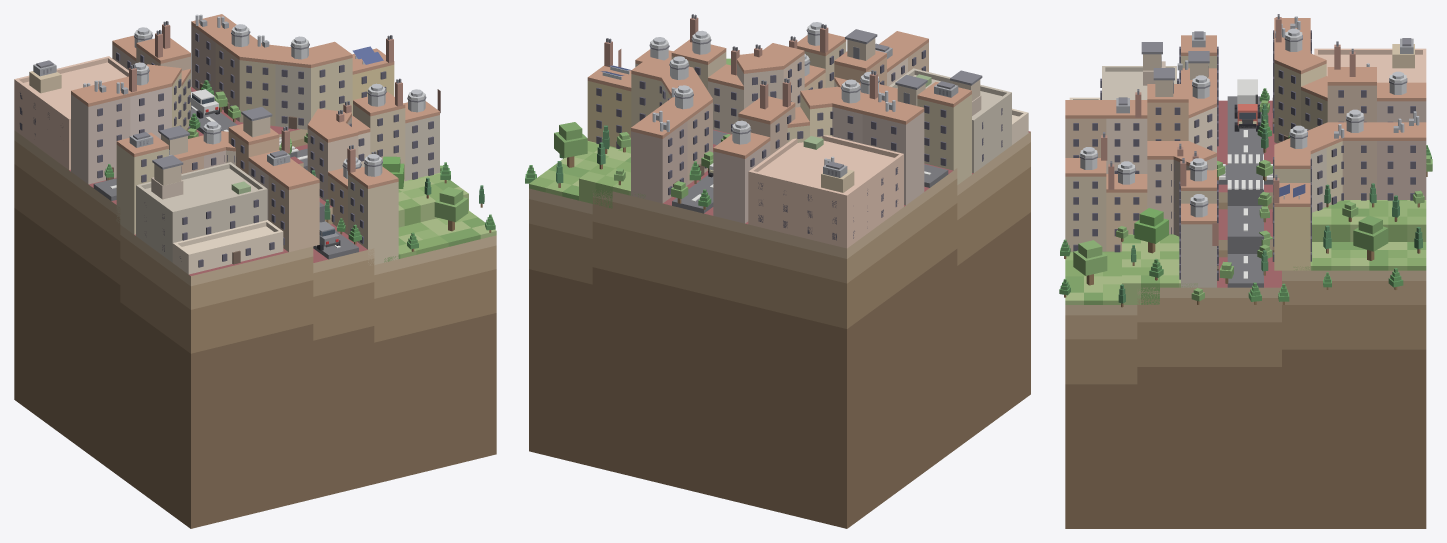
Rendered from block_18_base.glb.
The picture shows the model from 3 angles, left to right: view 1: azimuth 30°, elevation 25°; view 2: azimuth 150°, elevation 25°; view 3: azimuth 270°, elevation 25°; orthographic projection. The views are drawn at different scales.
Visible parts, largest first — view 1: Patch_MidRight_b17, Cerda_MidRight_b17, Insets_MidRight_b17, CerdaRoofProps_MidRight_b17, Green_MidRight_b17, Roads_MidRight_b17, Asset_Tree_Round.071, Asset_Car.038; view 2: Patch_MidRight_b17, Cerda_MidRight_b17, Insets_MidRight_b17, CerdaRoofProps_MidRight_b17, Green_MidRight_b17, Roads_MidRight_b17, Asset_Tree_Round.064; view 3: Patch_MidRight_b17, Cerda_MidRight_b17, Green_MidRight_b17, CerdaRoofProps_MidRight_b17, Roads_MidRight_b17, Insets_MidRight_b17, Asset_Truck.010, Asset_Tree_Round.064, Asset_Tree_Round.071, Asset_Tree_Round.070, Zebra_MidRight_b17.
Boxes of the visible parts, x1,y1,x2,y2 form: Patch_MidRight_b17: [14, 87, 496, 528]; Cerda_MidRight_b17: [71, 14, 439, 265]; Insets_MidRight_b17: [14, 56, 283, 274]; CerdaRoofProps_MidRight_b17: [33, 14, 440, 185]; Green_MidRight_b17: [384, 172, 496, 262]; Roads_MidRight_b17: [93, 91, 358, 259]; Asset_Tree_Round.071: [434, 187, 468, 231]; Asset_Car.038: [191, 89, 219, 118]; Patch_MidRight_b17: [529, 129, 1030, 528]; Cerda_MidRight_b17: [587, 31, 971, 223]; Insets_MidRight_b17: [748, 68, 1028, 248]; CerdaRoofProps_MidRight_b17: [601, 14, 982, 177]; Green_MidRight_b17: [529, 141, 645, 208]; Roads_MidRight_b17: [672, 130, 948, 213]; Asset_Tree_Round.064: [554, 122, 587, 167]; Patch_MidRight_b17: [1065, 100, 1426, 528]; Cerda_MidRight_b17: [1065, 18, 1426, 287]; Green_MidRight_b17: [1065, 200, 1426, 304]; CerdaRoofProps_MidRight_b17: [1079, 14, 1419, 245]; Roads_MidRight_b17: [1218, 96, 1272, 287]; Insets_MidRight_b17: [1069, 44, 1426, 99]; Asset_Truck.010: [1234, 79, 1260, 131]; Asset_Tree_Round.064: [1353, 215, 1388, 260]; Asset_Tree_Round.071: [1073, 240, 1107, 285]; Asset_Tree_Round.070: [1134, 208, 1168, 253]; Zebra_MidRight_b17: [1219, 154, 1273, 189].
Bounding box in the file's own units: 10.09 × 11.16 × 9.82.
